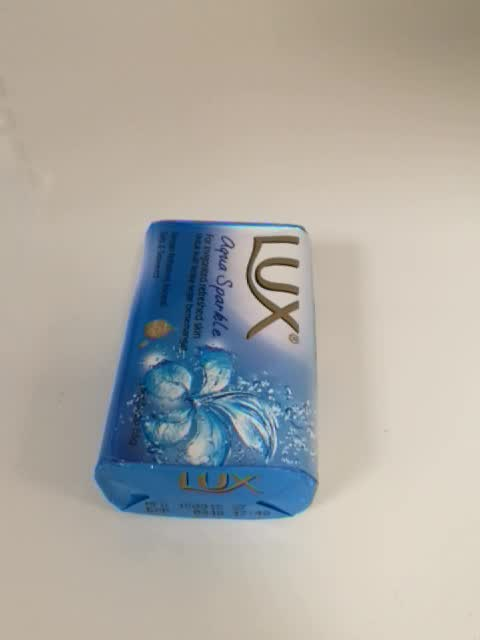soap: (89, 217, 322, 526)
